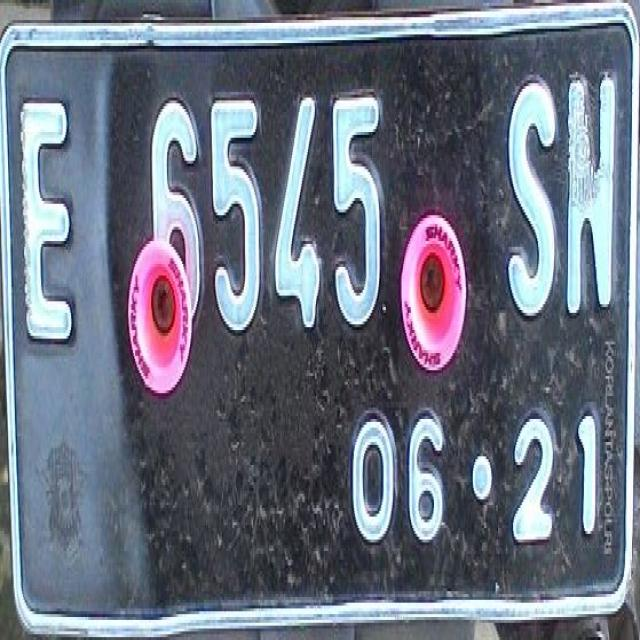plate: (0, 15, 635, 621)
